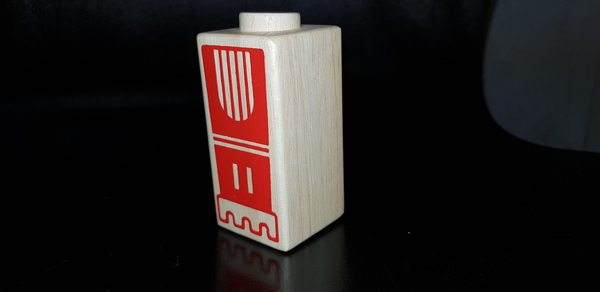tourRouge: (193, 26, 344, 240)
